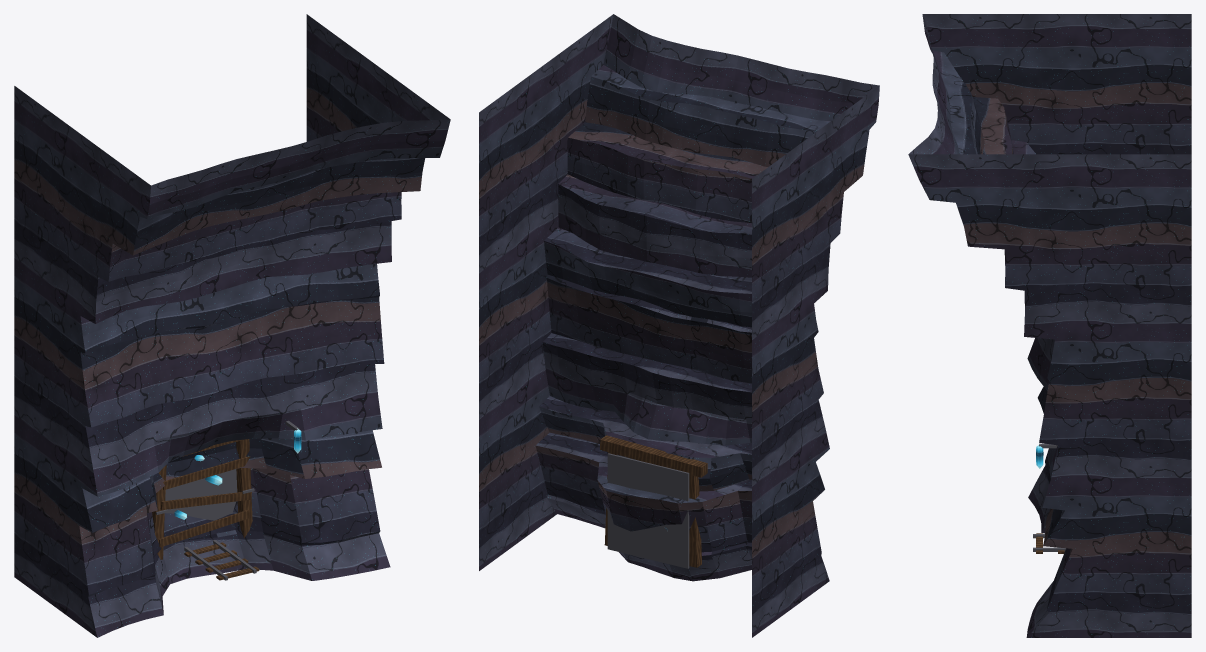
Rendered from cave_wall_mine.glb.
3 views of the same model, side by side, from view 1: azimuth 30°, elevation 25°; view 2: azimuth 150°, elevation 25°; view 3: azimuth 270°, elevation 25° (orthographic). The views are drawn at different scales.
Parts seen in each view (by area): view 1: cave_wall_mine; view 2: cave_wall_mine; view 3: cave_wall_mine.
Part boxes in pixels (x1,y1,x2,y2): cave_wall_mine: [14, 14, 450, 637]; cave_wall_mine: [479, 14, 879, 637]; cave_wall_mine: [908, 14, 1191, 637].
Size of the model in its own units: 7.8 by 12.53 by 6.66.
4 materials, 3 textured.
